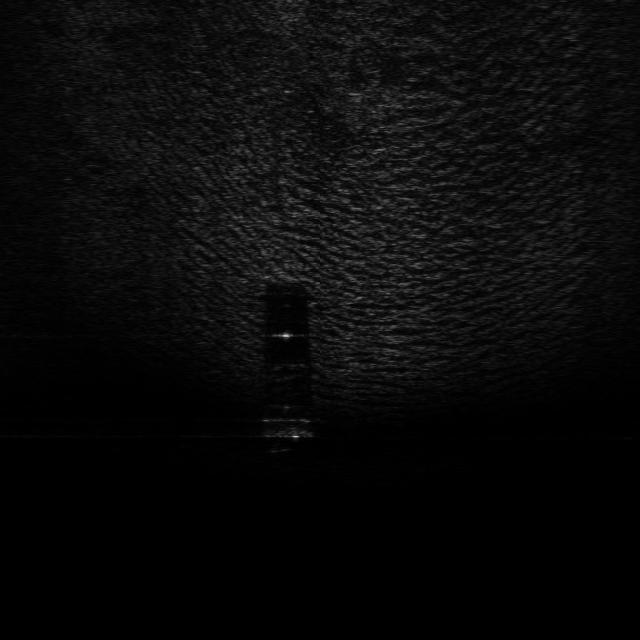cube: (260, 414, 314, 442)
